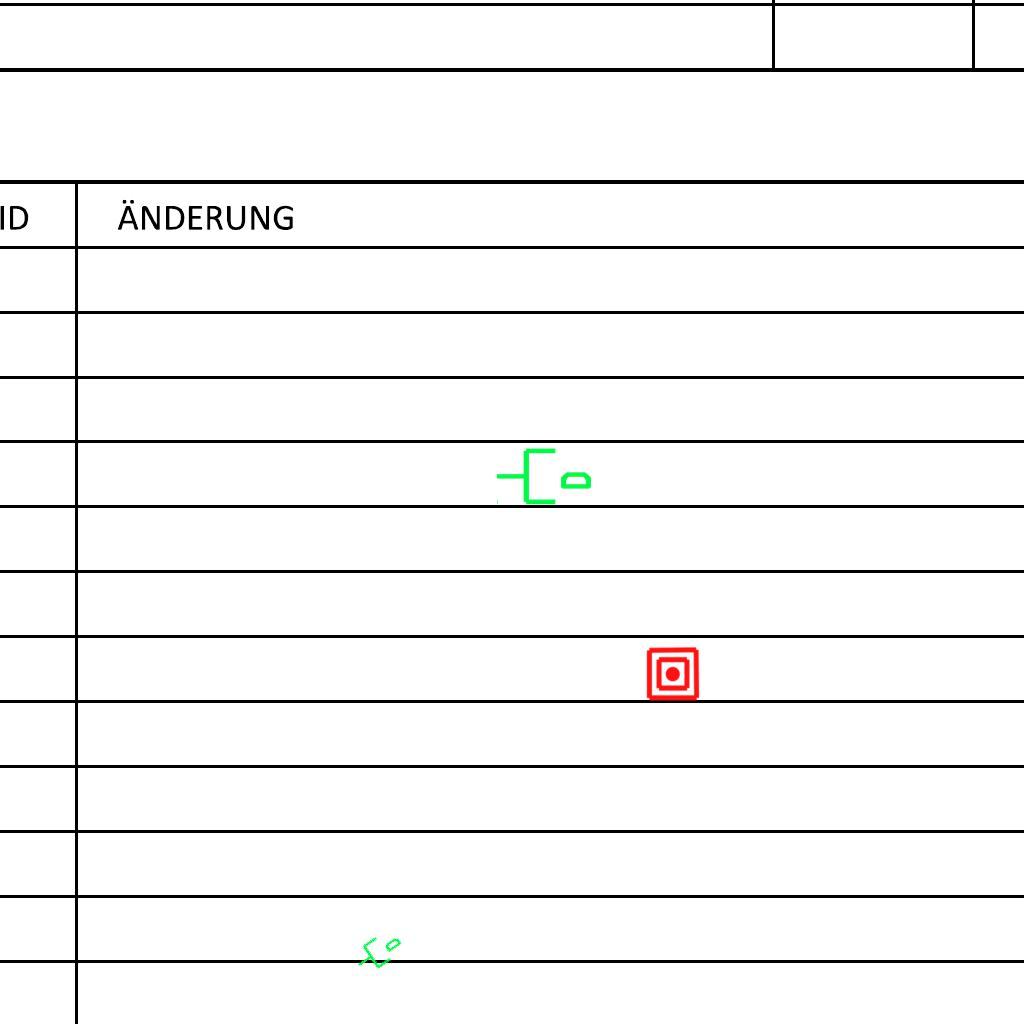Datenanschluss_einfach: (494, 440, 594, 509), (347, 922, 409, 980)
NAM-Nichtautomatischer_Melder: (645, 646, 701, 702)
